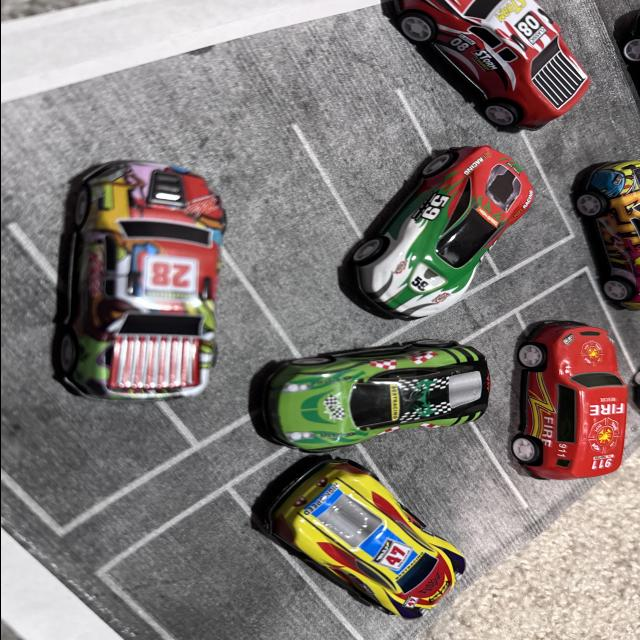Car: (232, 456, 492, 622), (52, 156, 234, 357), (351, 146, 534, 318), (394, 0, 593, 134), (253, 346, 487, 452), (511, 310, 640, 462), (572, 157, 640, 313)
